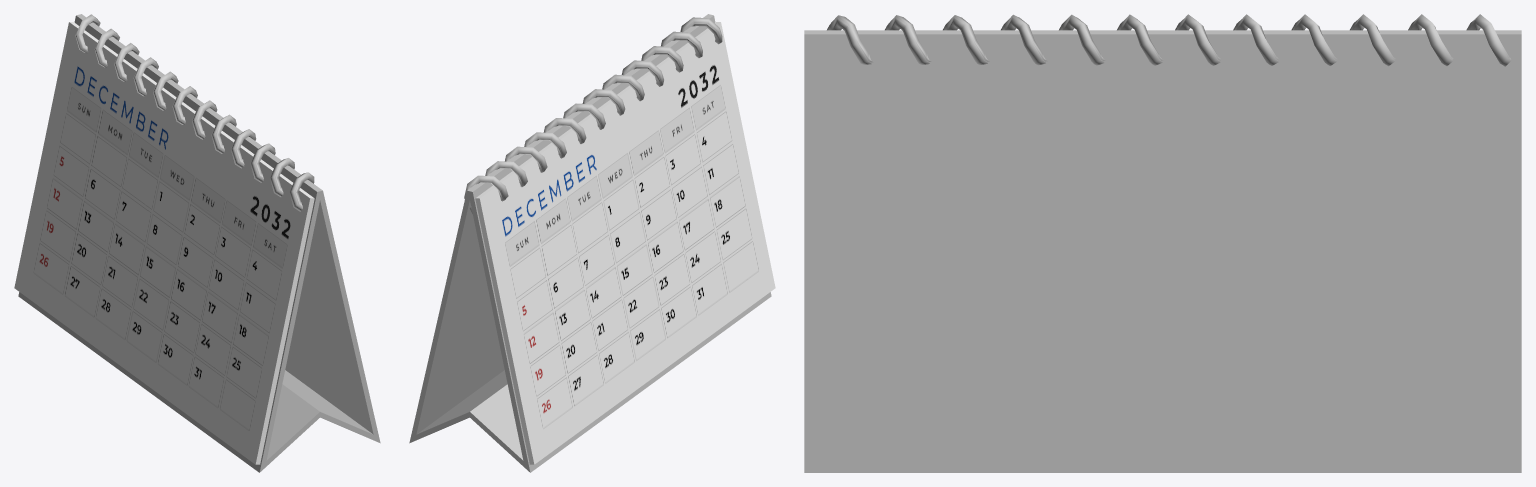
Rendered from calender.fbx.
The picture shows the model from 3 angles, left to right: view 1: azimuth 30°, elevation 25°; view 2: azimuth 150°, elevation 25°; view 3: azimuth 270°, elevation 25°; orthographic projection. The views are drawn at different scales.
Parts seen in each view (by area): view 1: Cube.014; view 2: Cube.014; view 3: Cube.014.
Boxes of the visible parts, left/top/right/bottom form: Cube.014: left=14, top=14, right=380, bottom=472; Cube.014: left=409, top=14, right=775, bottom=472; Cube.014: left=804, top=14, right=1521, bottom=472.
Size of the model in its own units: 9.41 by 19.74 by 31.43.
